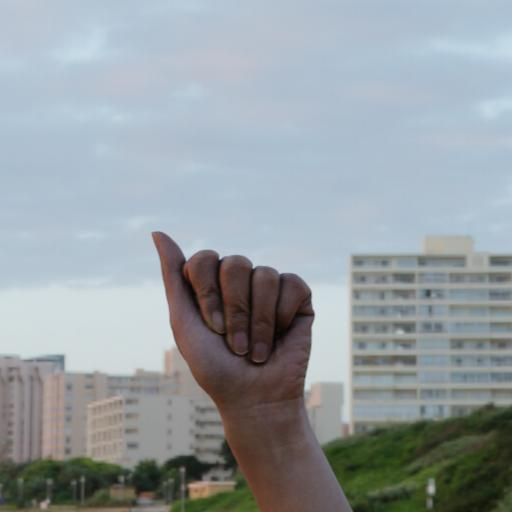A: (146, 219, 331, 434)
